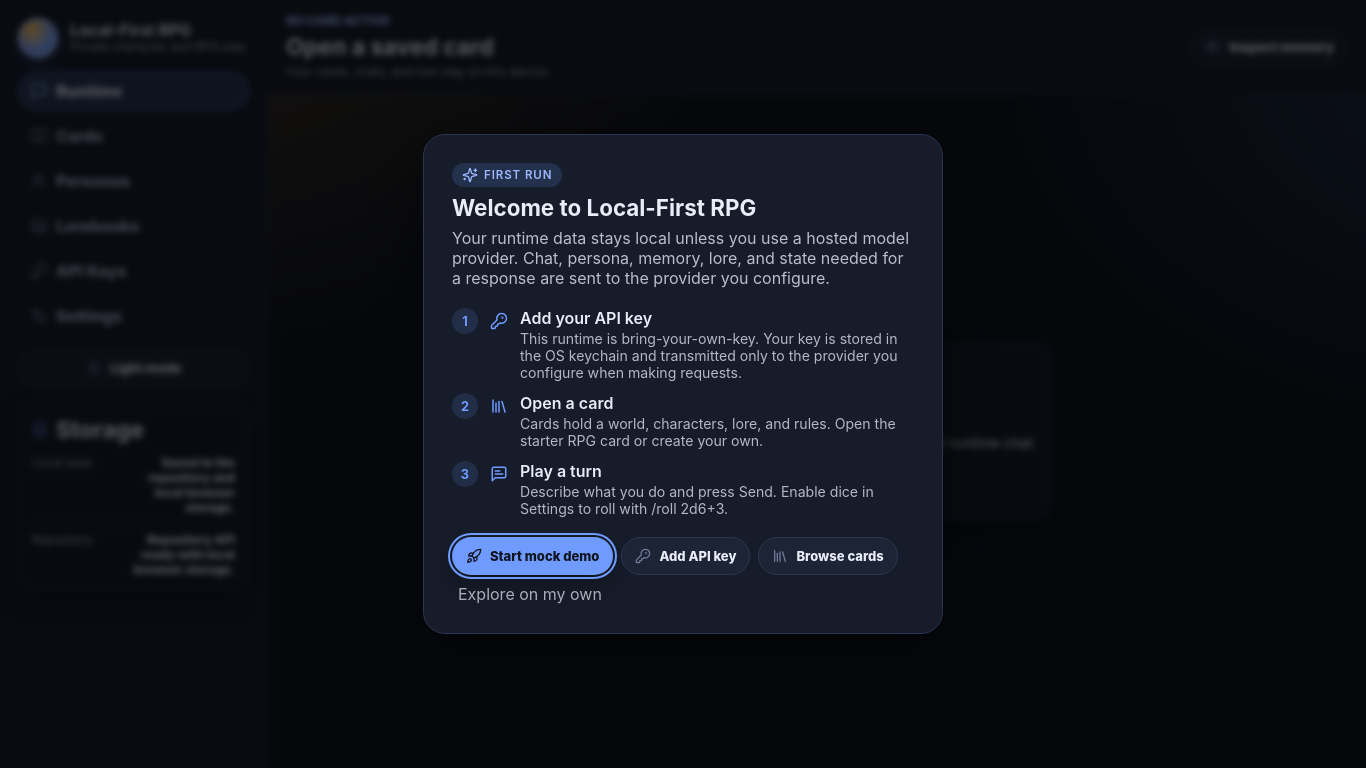
Test: local-first card runtime UI: data › starts the bundled RPG through a one-click offline mock demo
Expected: the text "Repository API ready with local browser storage." is shown, [134,532,235,577]
Click the button "Start mock demo" at (533, 556), box [452,537,613,575]
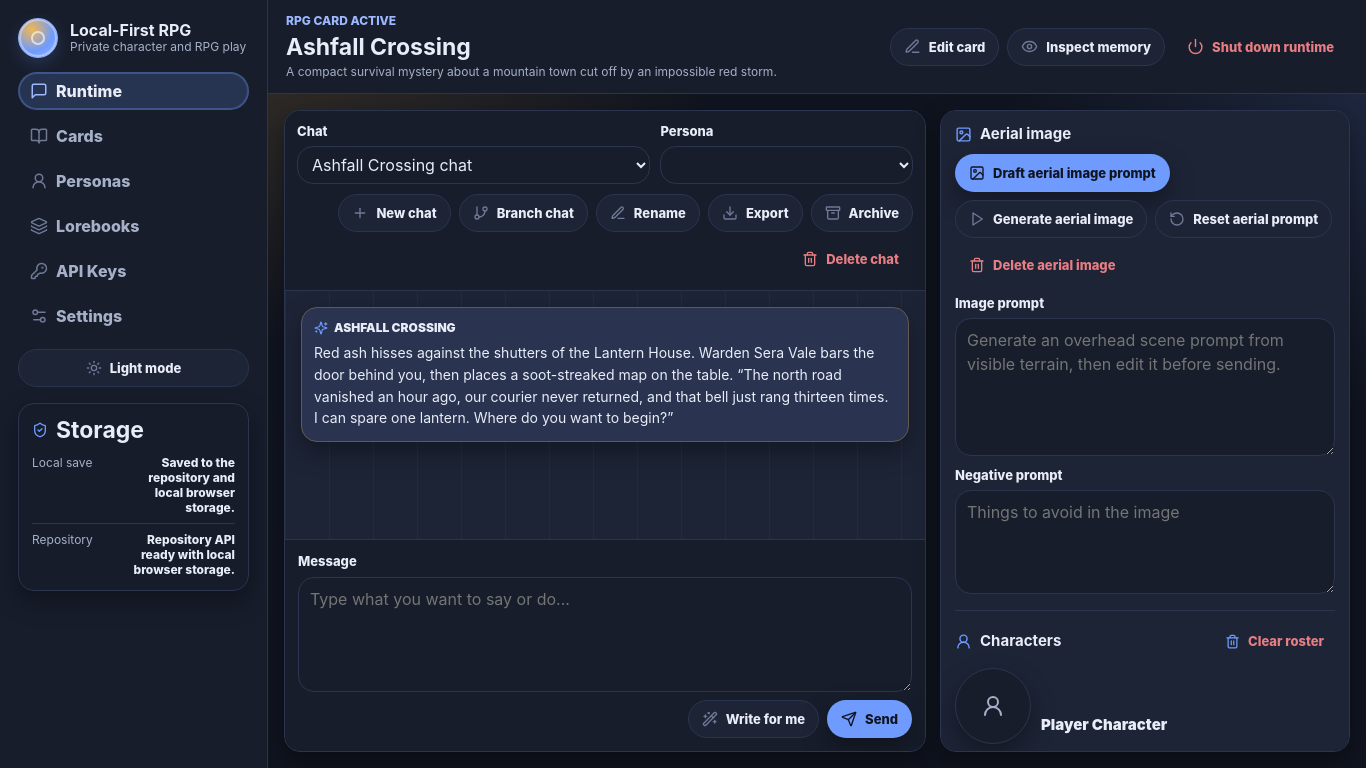
Now the heading "Ashfall Crossing" is shown, box [286,32,471,60]
Now the element named "Chat transcript" shows "Red ash hisses against the shutters", box [314,344,892,426]
